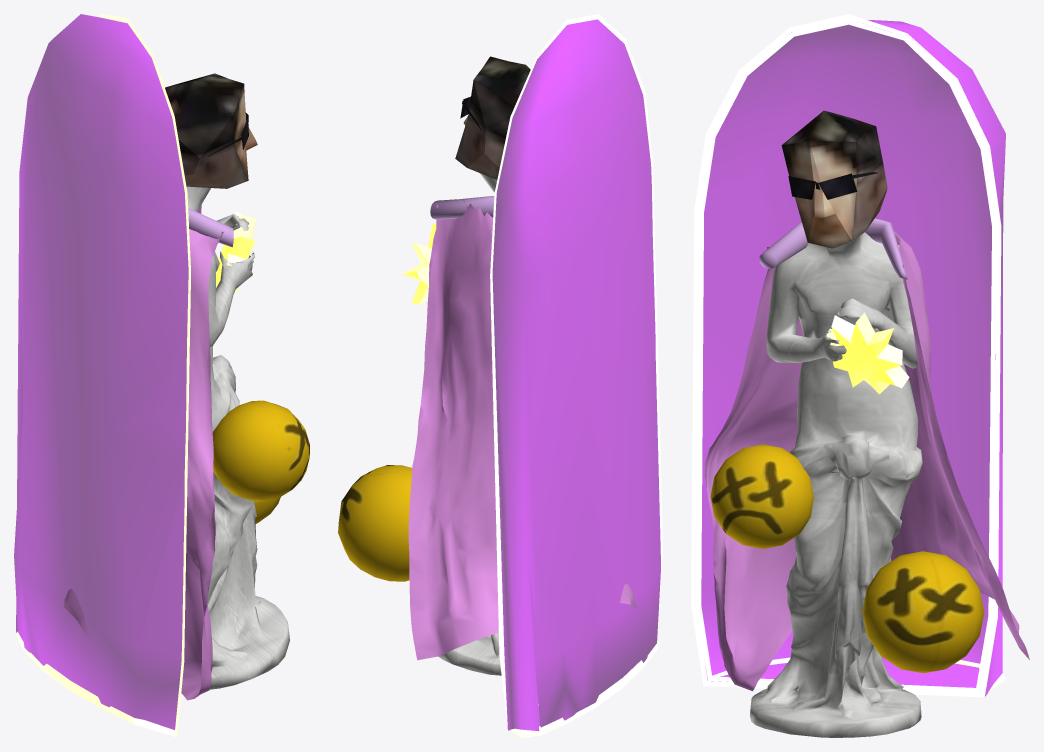
File: psyche3d.glb
3 views of the same model, side by side, from view 1: azimuth 30°, elevation 25°; view 2: azimuth 150°, elevation 25°; view 3: azimuth 270°, elevation 25° (orthographic). The views are drawn at different scales.
Parts seen in each view (by area): view 1: bkgrd-Mat.3 (×2), corp_remesh_remesh_remesh, cape, sad, face, bkgrd-Mat.7, etoile, col; view 2: bkgrd-Mat.3 (×2), cape, smile, bkgrd-Mat.7, face, corp_remesh_remesh_remesh, col, etoile; view 3: bkgrd-Mat.3 (×2), corp_remesh_remesh_remesh, cape, bkgrd-Mat.7, smile, face, sad, etoile, col.
Boxes of the visible parts, x1,y1,x2,y2 form: bkgrd-Mat.3 (×2): (14, 14, 188, 729); corp_remesh_remesh_remesh: (186, 186, 289, 689); cape: (64, 204, 223, 700); sad: (212, 400, 309, 501); face: (165, 73, 257, 188); bkgrd-Mat.7: (16, 14, 190, 737); etoile: (216, 211, 255, 291); col: (188, 208, 233, 247); bkgrd-Mat.3 (×2): (492, 19, 660, 731); cape: (408, 200, 637, 660); smile: (338, 465, 411, 581); bkgrd-Mat.7: (490, 14, 662, 737); face: (455, 56, 530, 179); corp_remesh_remesh_remesh: (438, 173, 501, 675); col: (430, 196, 494, 219); etoile: (402, 223, 436, 304); bkgrd-Mat.3 (×2): (701, 20, 1005, 696); corp_remesh_remesh_remesh: (749, 232, 922, 737); cape: (704, 218, 1029, 691); bkgrd-Mat.7: (691, 14, 1006, 697); smile: (862, 551, 984, 673); face: (781, 110, 887, 248); sad: (710, 444, 813, 548); etoile: (826, 312, 909, 394); col: (759, 218, 907, 279).
Bounding box in the file's own units: 0.4801 × 1.22 × 0.5449.
Materials: 9 (4 with a texture image).
